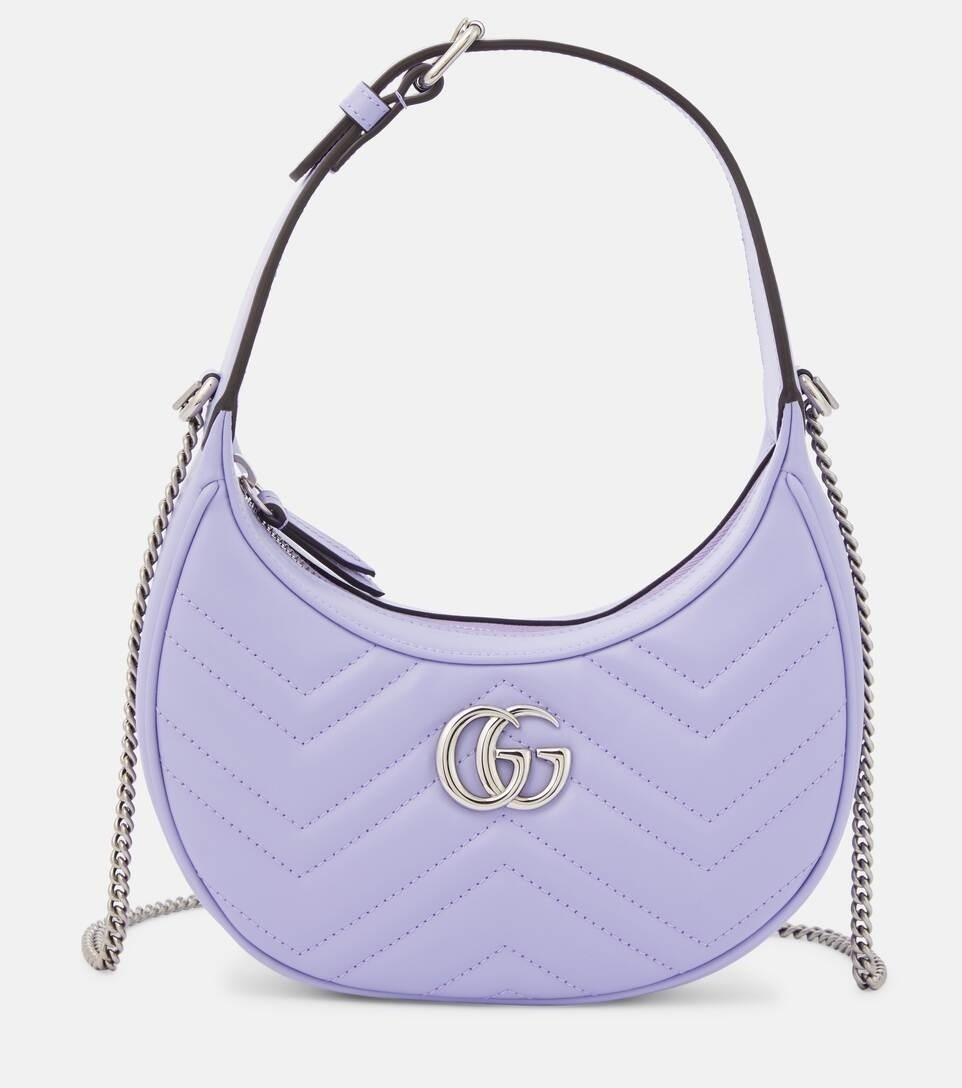GUCCI: (435, 704, 572, 812)
